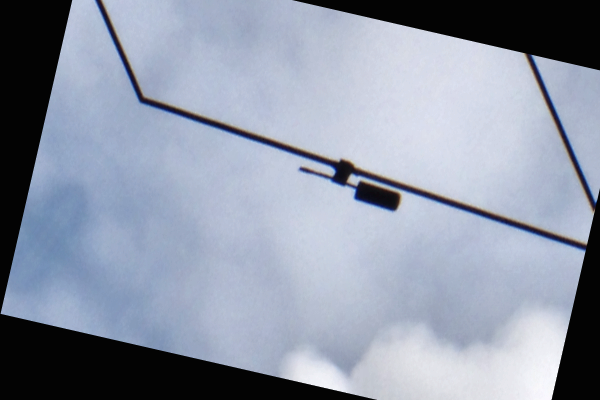damper_defect: (289, 148, 410, 216)
